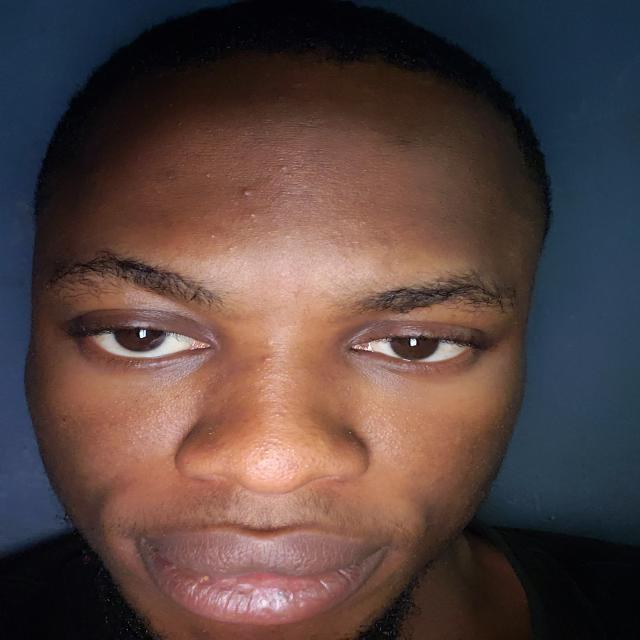Acne: (369, 408, 423, 462), (327, 225, 362, 257), (244, 207, 262, 223), (274, 160, 293, 175), (161, 171, 182, 183), (258, 352, 274, 367), (223, 242, 246, 252), (238, 186, 254, 198), (202, 170, 218, 182), (277, 269, 293, 281), (202, 232, 220, 241), (281, 231, 295, 240)
Englarged-Pores: (116, 392, 186, 446), (244, 432, 300, 483), (194, 624, 217, 638)
Wrinkles: (239, 134, 322, 142), (250, 190, 322, 199), (275, 118, 319, 130)
